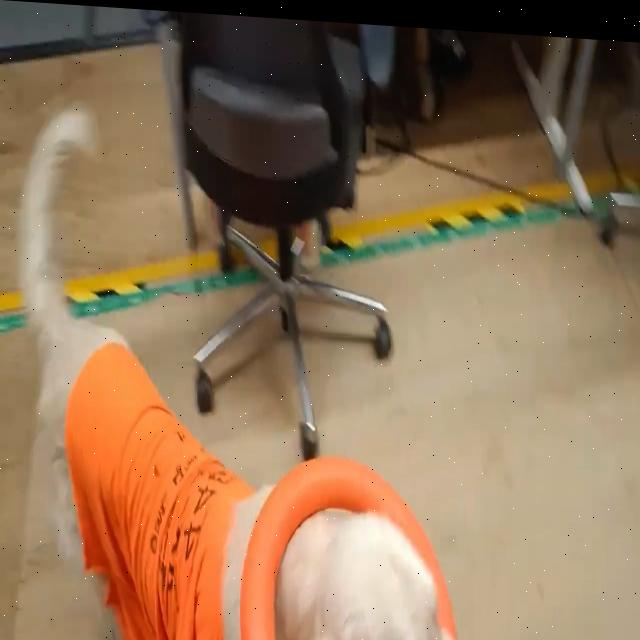note: (238, 443, 454, 640)
